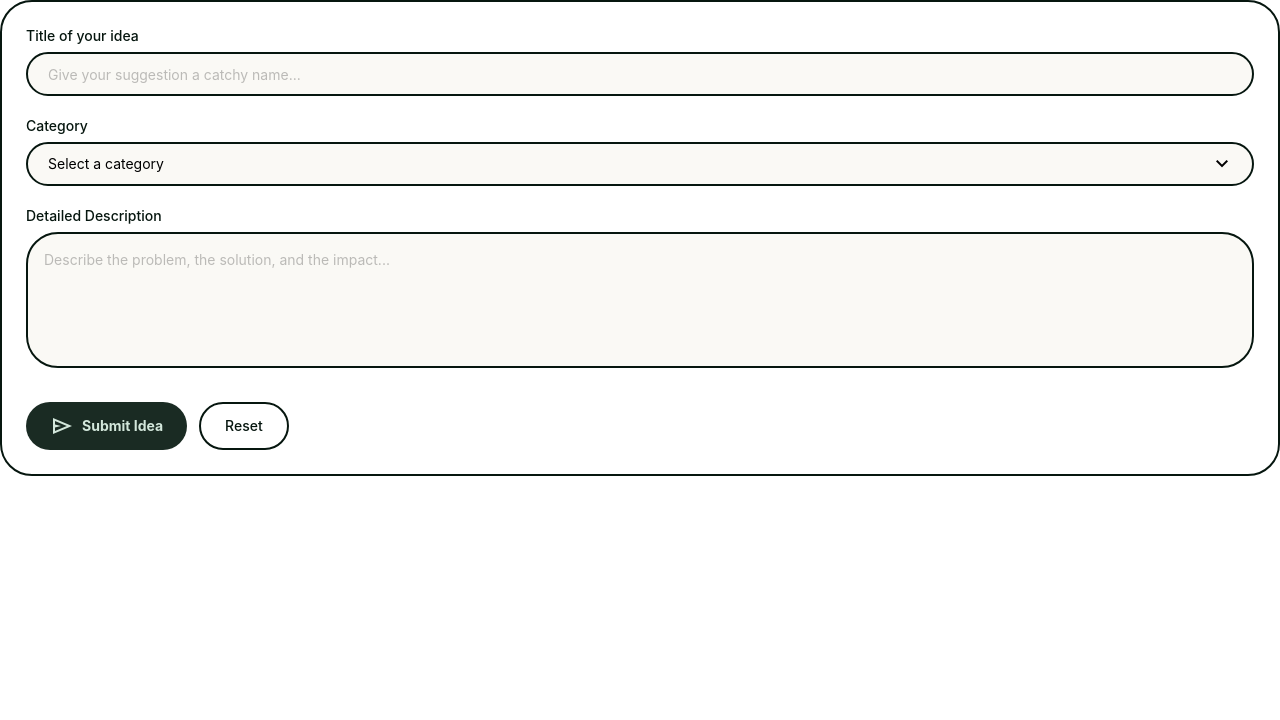
Scenario: SuggestForm › validates description min length
The width and height of the screenshot is (1280, 720).
In the field with id "suggest-title": (640, 74) left=26, top=52, right=1254, bottom=96, type "Valid Title"
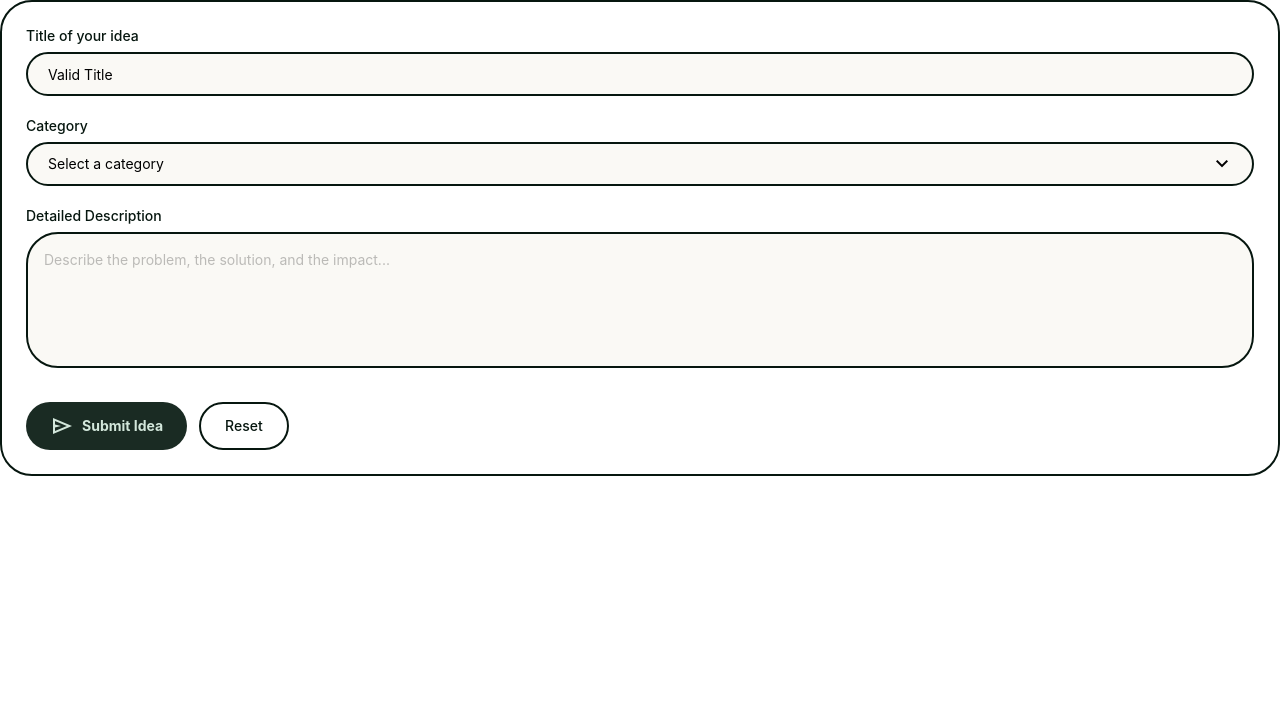
Select "Technology" in the dropdown with id "suggest-category": (640, 164) left=26, top=142, right=1254, bottom=186
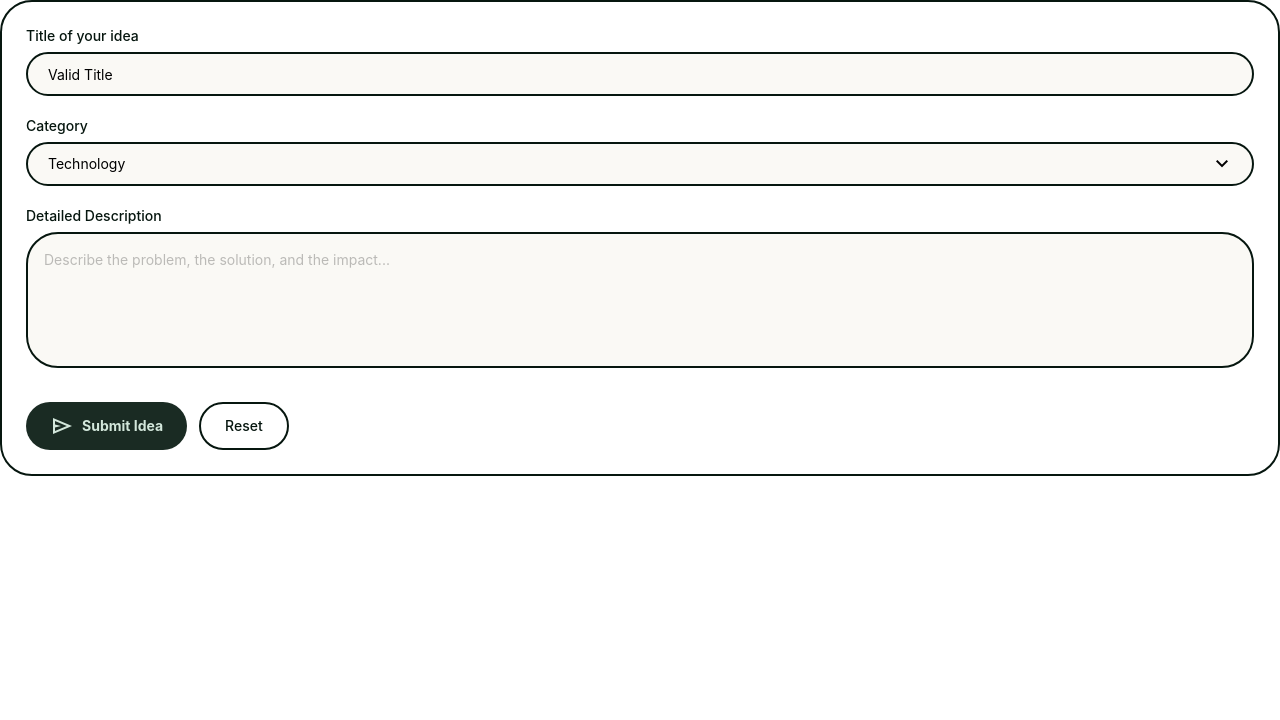
In the text box with id "suggest-description": (640, 300) left=26, top=232, right=1254, bottom=368, type "Short"
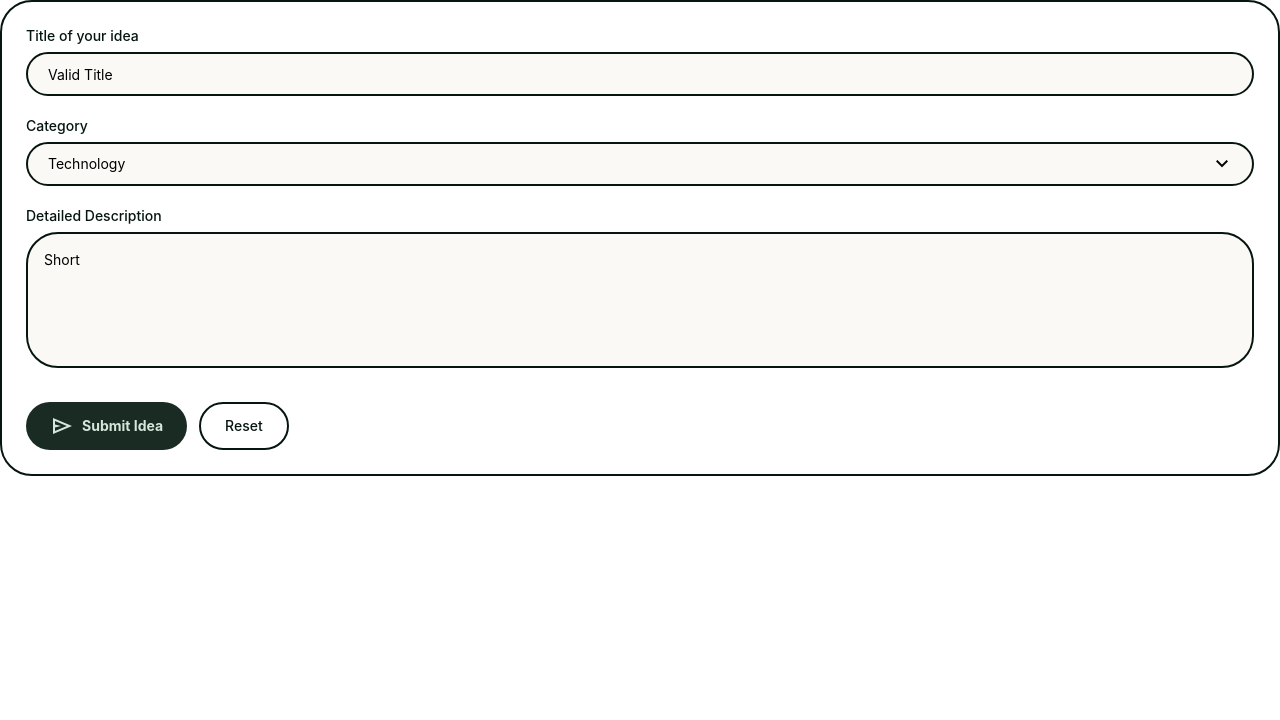
Submit the form, box left=26, top=26, right=1254, bottom=450
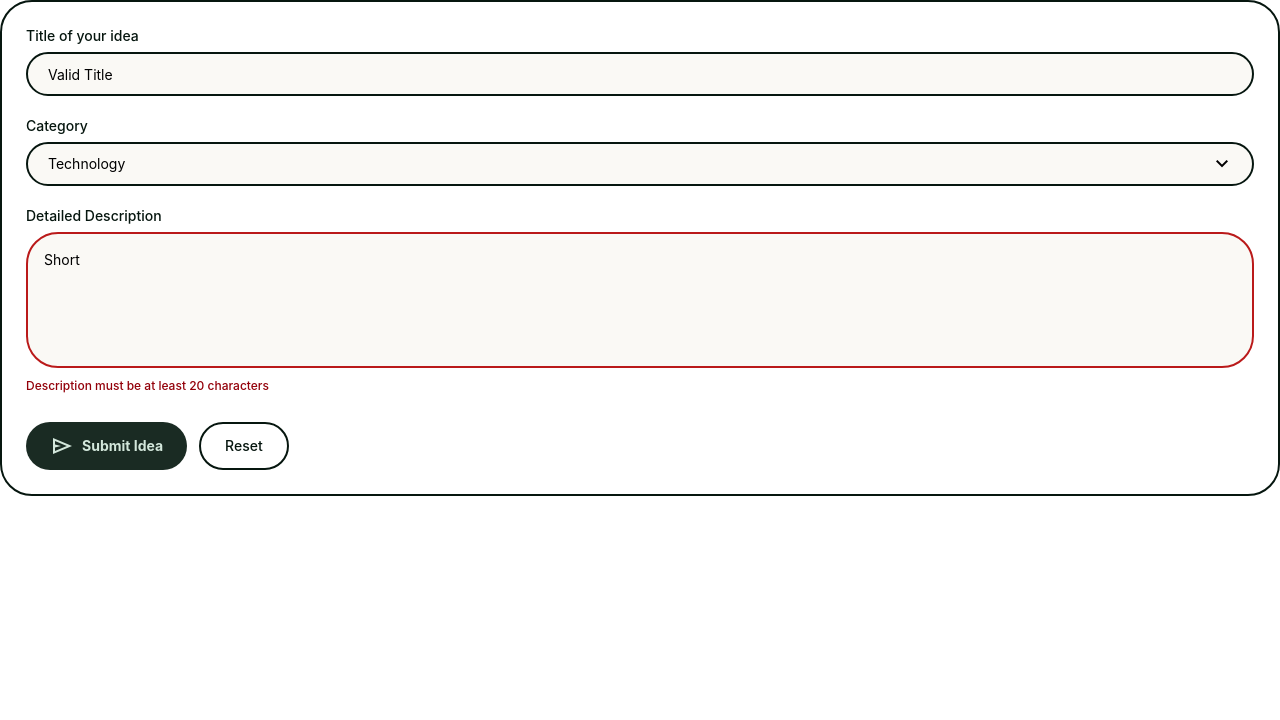
Expected: the text "Description must be at least 20 characters" is shown, left=26, top=378, right=269, bottom=393
